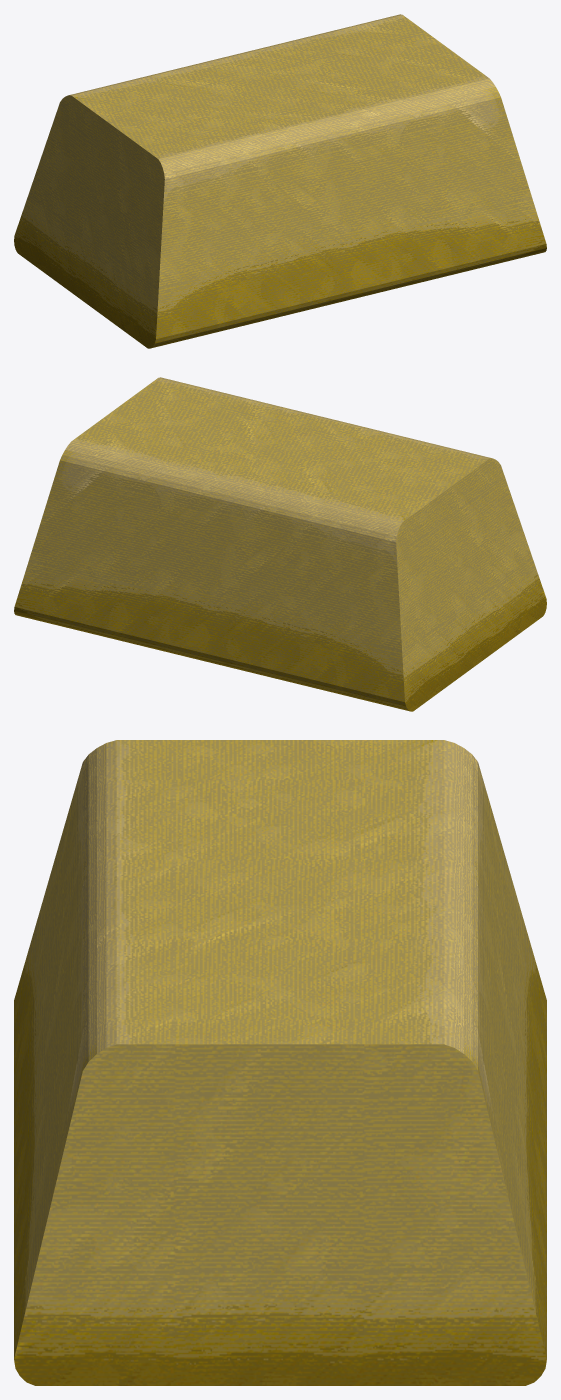
File: gold_bar.fbx
3 views of the same model, one above another, from view 1: azimuth 30°, elevation 25°; view 2: azimuth 150°, elevation 25°; view 3: azimuth 270°, elevation 25° (orthographic). The views are drawn at different scales.
Visible parts, largest first — view 1: Cube; view 2: Cube; view 3: Cube.
Part boxes in pixels (x1,y1,x2,y2): Cube: (14,14,546,348); Cube: (14,377,546,711); Cube: (14,740,546,1385).
Bounding box in the file's own units: 315 × 126 × 195.
